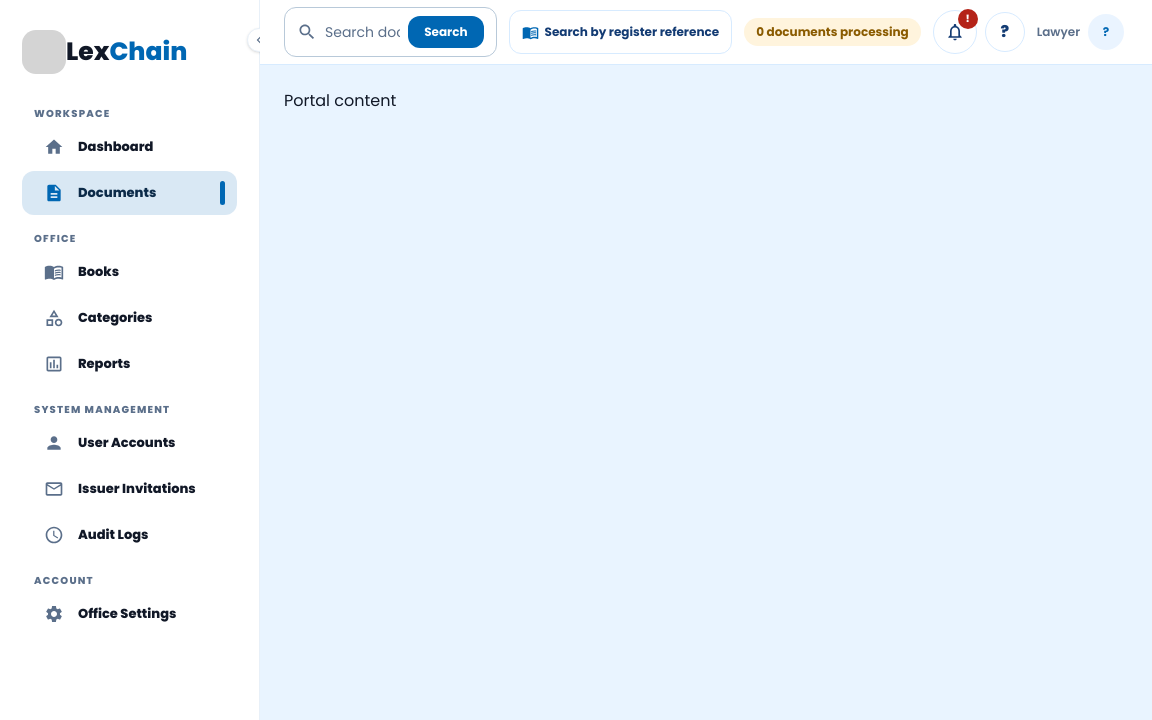
Test: portal layout role hint › shows unread-count failures instead of displaying a false zero badge
What coordinates should you click on to do the following:
click the button named "View notifications"
I would click on:
 (955, 32)
Its box is [933, 10, 977, 54].
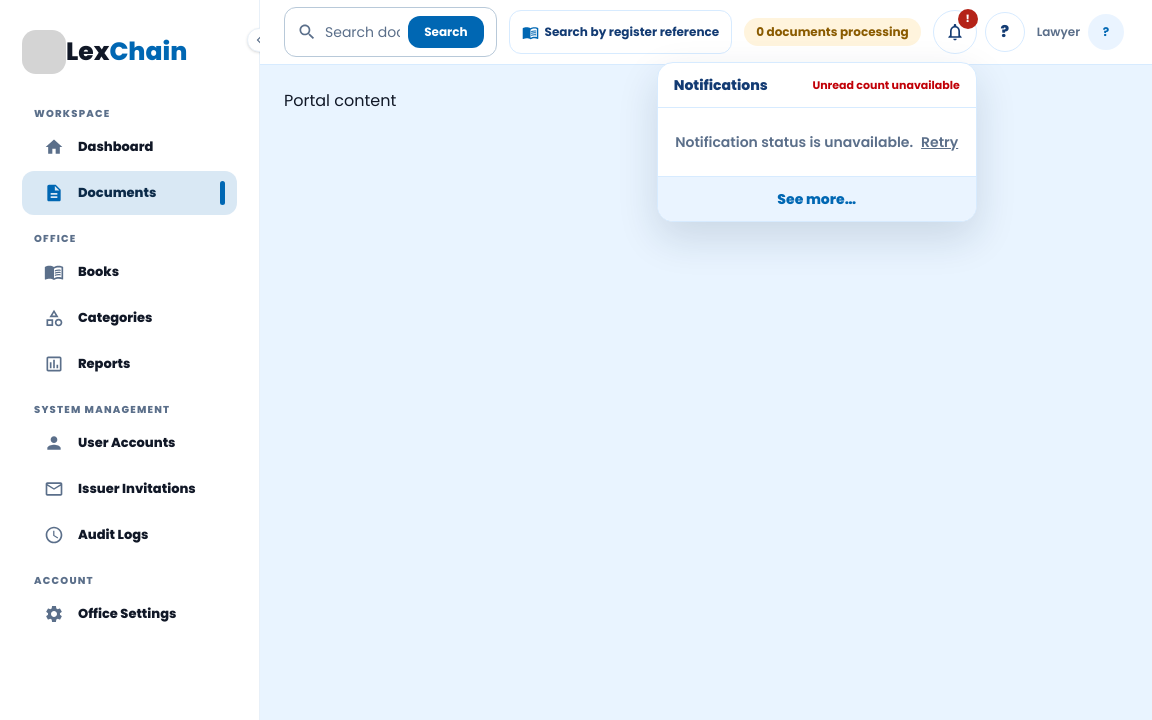
Check: the message reads "Unread count unavailable", box [812, 77, 960, 93]
Check: the button "Retry" is shown, box [921, 132, 958, 152]
